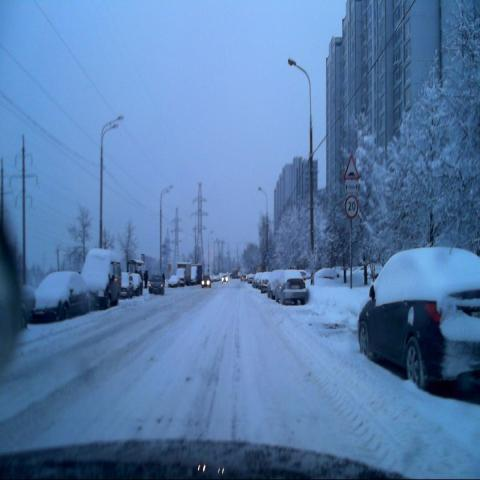1_17: (342, 155, 359, 177)
